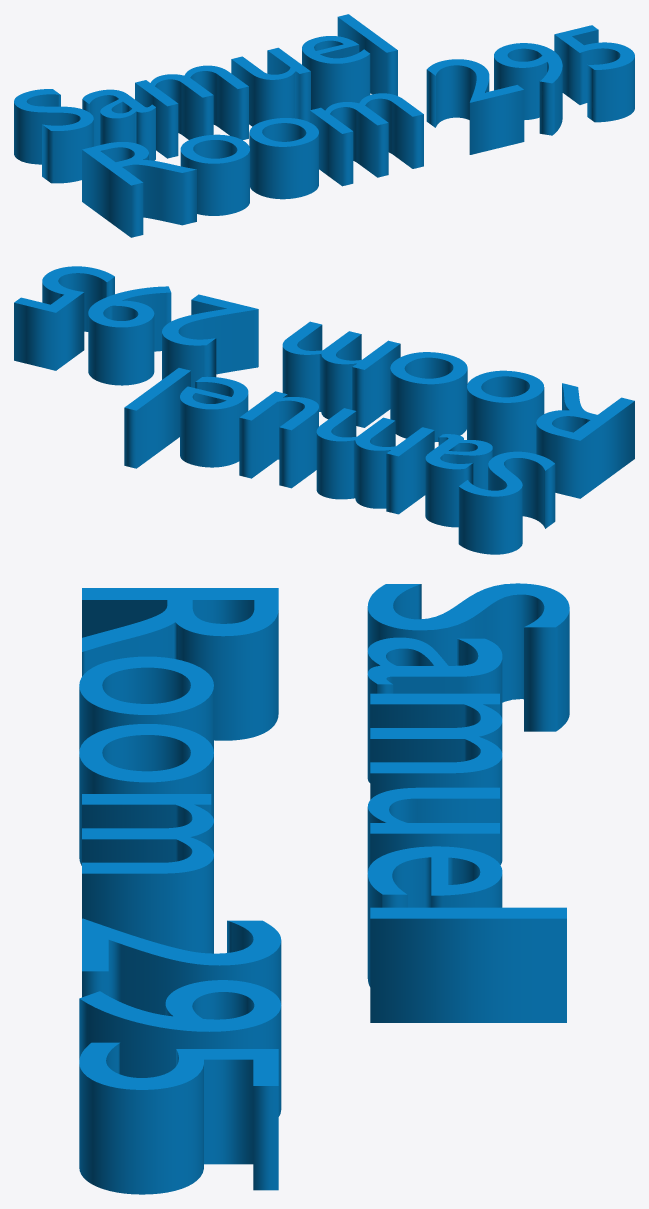
The model's file is samuel-295.gltf.
The picture shows the model from 3 angles, top to bottom: view 1: azimuth 30°, elevation 25°; view 2: azimuth 150°, elevation 25°; view 3: azimuth 270°, elevation 25°; orthographic projection. The views are drawn at different scales.
Parts seen in each view (by area): view 1: Text; view 2: Text; view 3: Text.
Boxes of the visible parts, <box> form: Text: <box>14,14,634,237</box>; Text: <box>14,266,634,554</box>; Text: <box>79,583,569,1194</box>.
Bounding box in the file's own units: 4.16 × 0.4 × 1.7.
